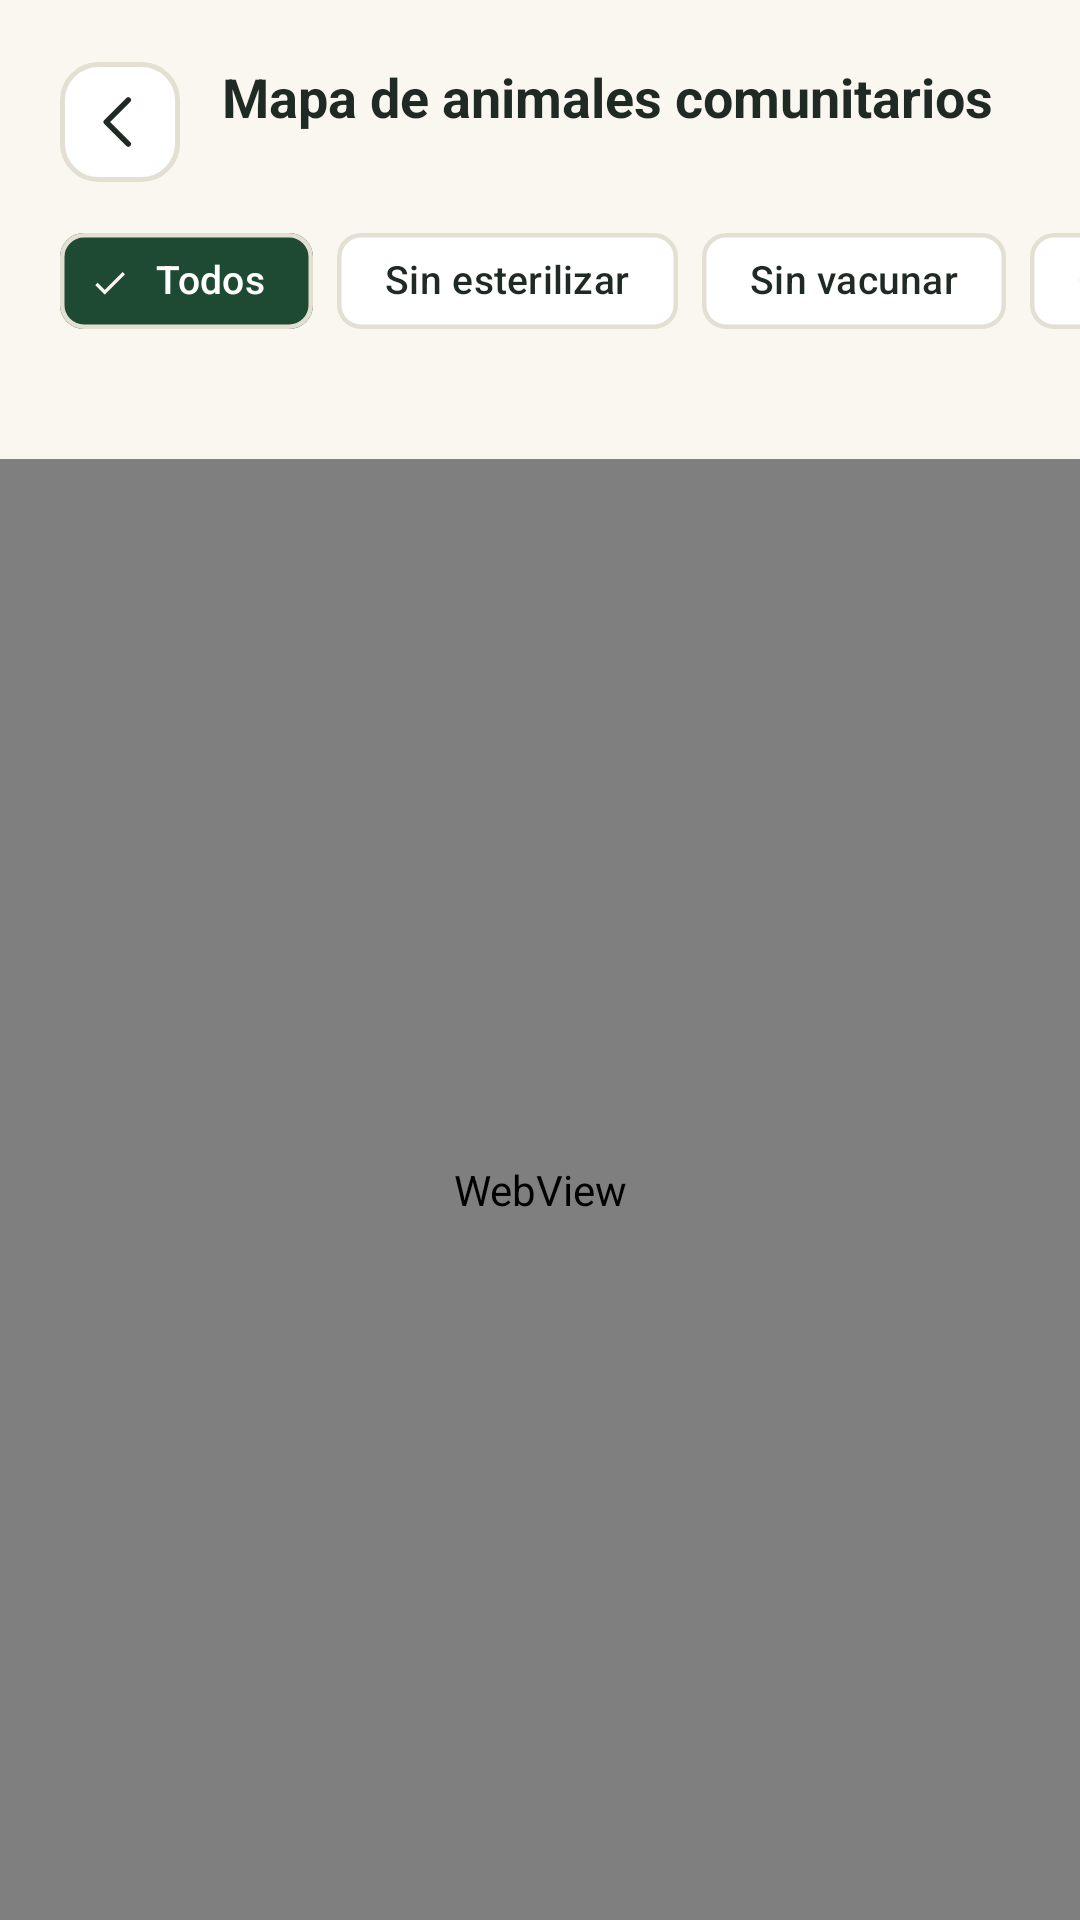

Named icons in this screenshot (1080 × 1920) and their bounding boxes, (x1, y1, x2, y2):
← Atrás: (60, 62, 180, 182)
